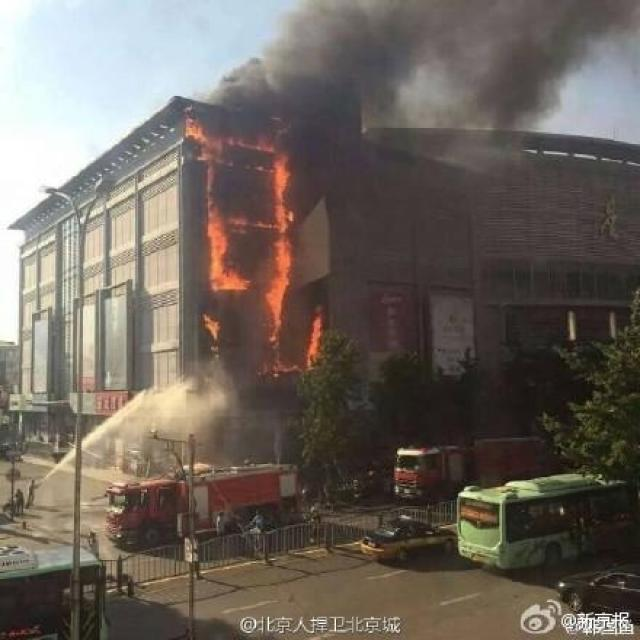Fire: (183, 119, 326, 378)
Smoke: (200, 2, 640, 174)
